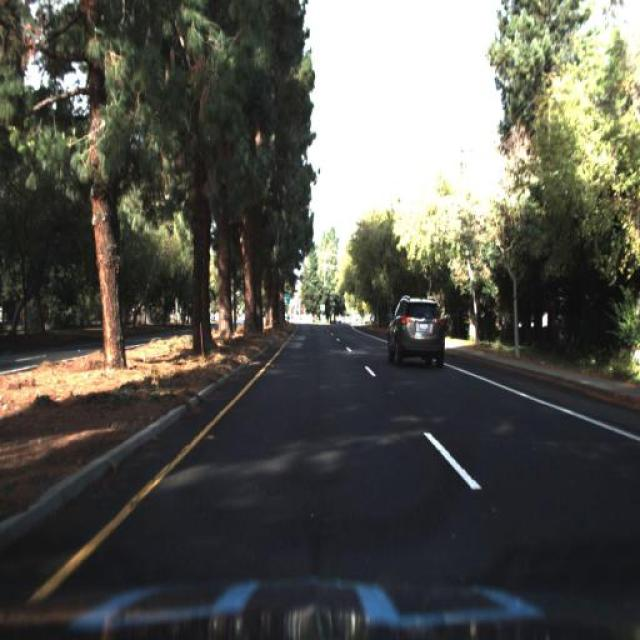car: (383, 296, 448, 372)
